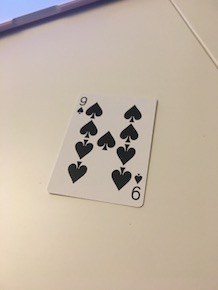NineOfSpades: (45, 89, 163, 210)
